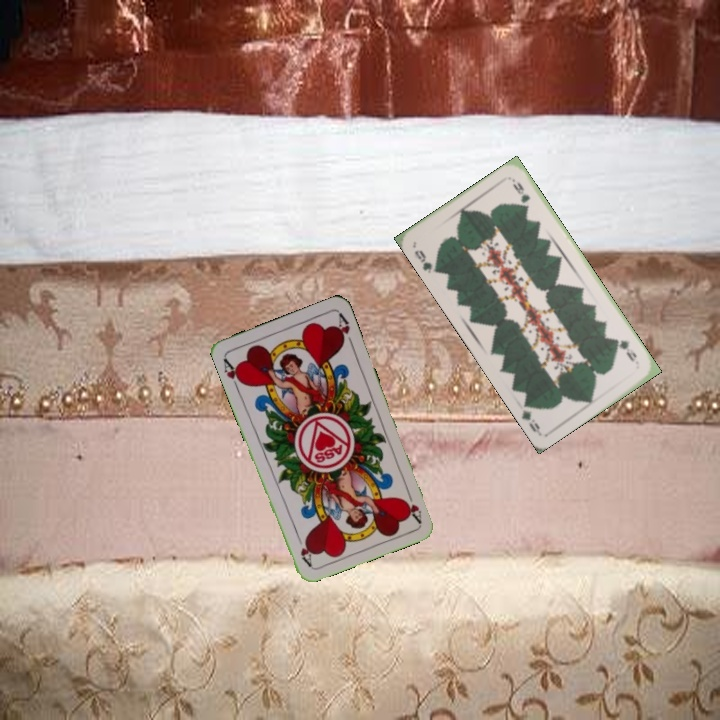G9: (612, 335, 639, 365), (410, 245, 435, 276)
HA: (219, 354, 246, 393), (399, 485, 424, 525)
